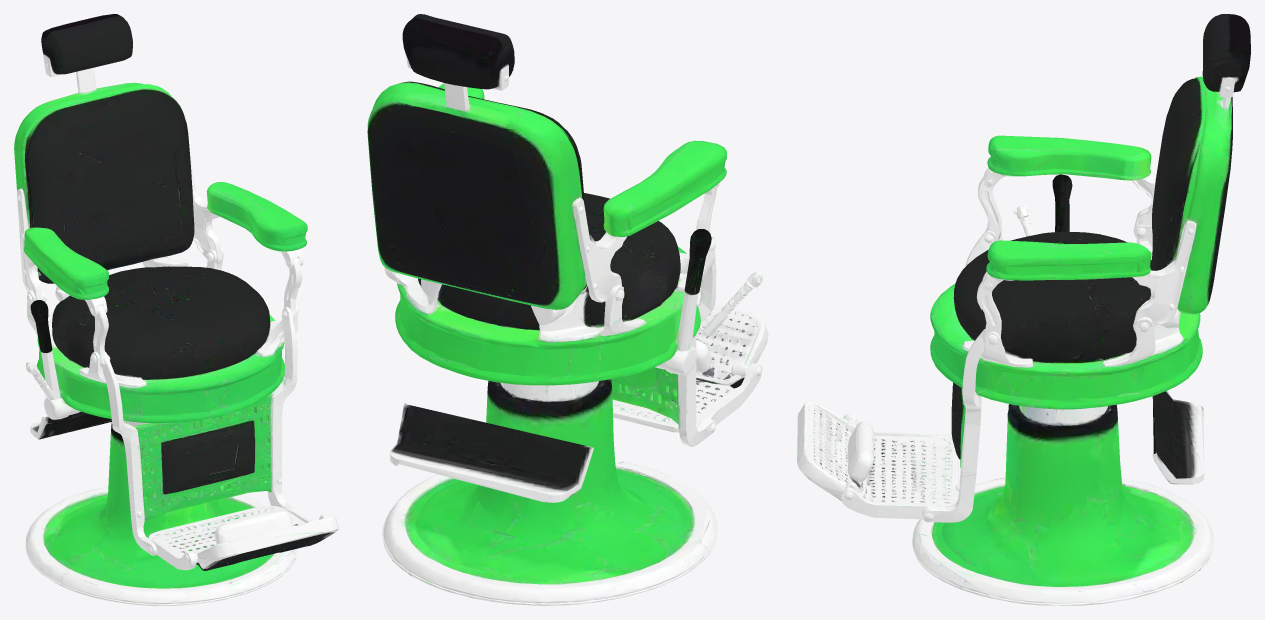
File: gen-green-kochs-3d.glb
The picture shows the model from 3 angles, left to right: view 1: azimuth 30°, elevation 25°; view 2: azimuth 150°, elevation 25°; view 3: azimuth 270°, elevation 25°; orthographic projection. The views are drawn at different scales.
Visible parts, largest first — view 1: Mesh_0; view 2: Mesh_0; view 3: Mesh_0.
Boxes of the visible parts, x1,y1,x2,y2 form: Mesh_0: (14, 14, 338, 605); Mesh_0: (367, 14, 768, 605); Mesh_0: (797, 14, 1250, 605).
Bounding box in the file's own units: 1.16 × 1.9 × 1.53.
Materials: 1 (1 with a texture image).
